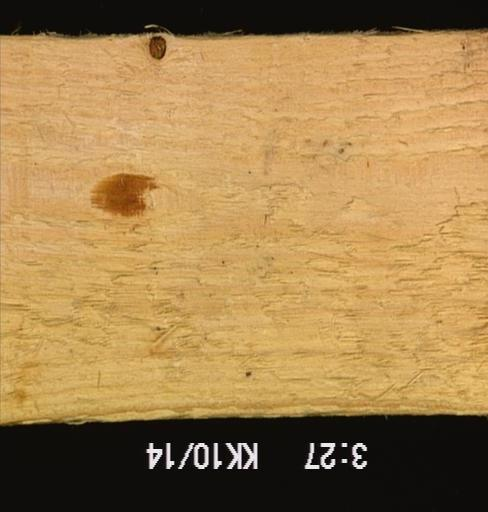dry_knot: (145, 33, 170, 60)
wave: (43, 22, 243, 46)
